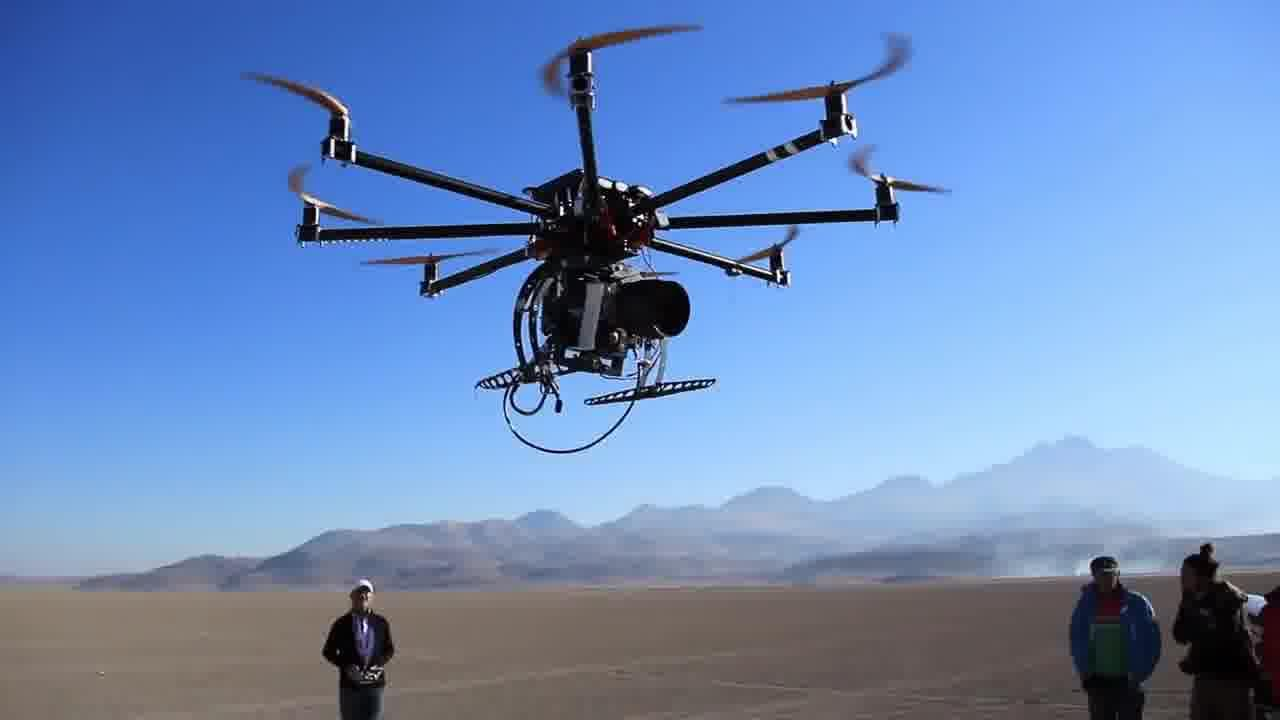Drone: (235, 18, 962, 461)
